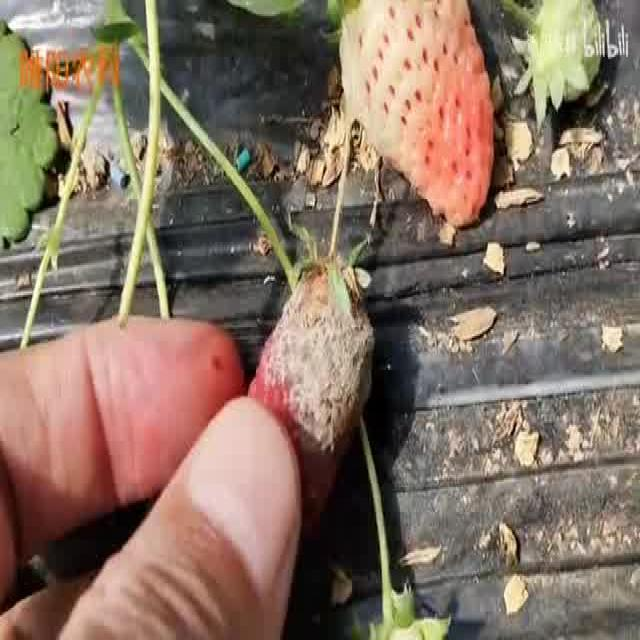Fruta sana: (339, 2, 496, 230), (518, 0, 605, 117)
Moho gris: (243, 260, 374, 546)
